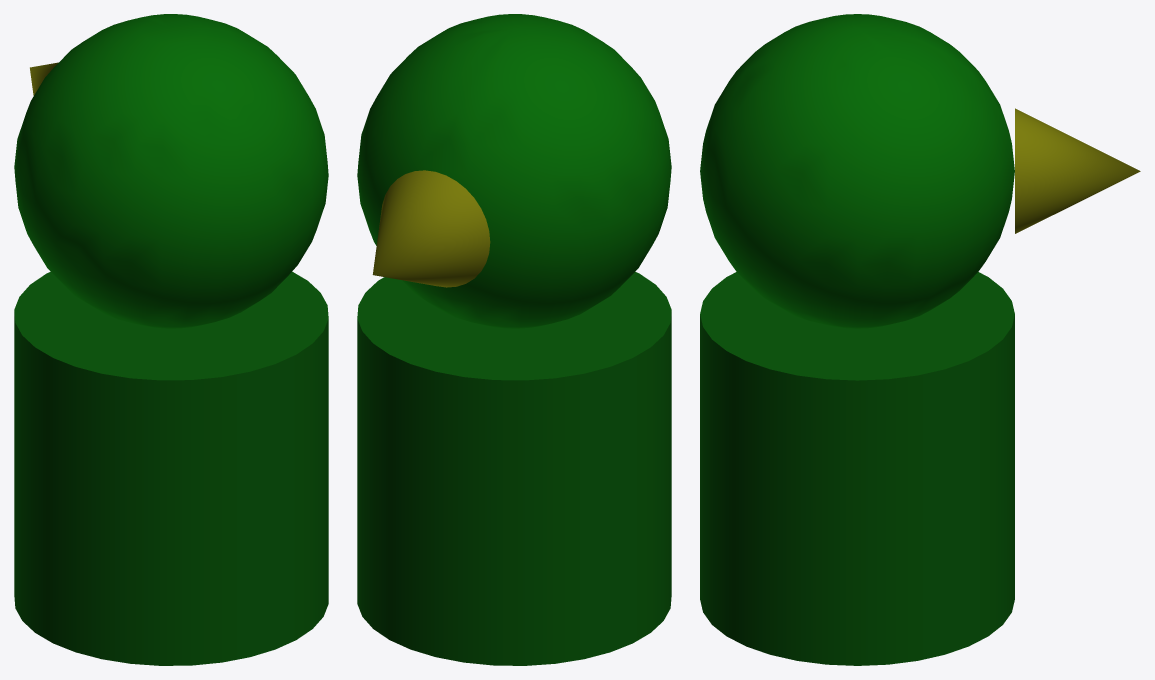
Rendered from player.obj.
3 renders of one model, left to right at view 1: azimuth 30°, elevation 25°; view 2: azimuth 150°, elevation 25°; view 3: azimuth 270°, elevation 25°, orthographic.
Parts seen in each view (by area): view 1: Cylinder, Sphere; view 2: Cylinder, Sphere, Cone; view 3: Cylinder, Sphere, Cone.
Boxes of the visible parts, <box> form: Cylinder: <box>14,271,328,665</box>; Sphere: <box>14,14,328,328</box>; Cylinder: <box>357,272,671,665</box>; Sphere: <box>357,14,671,328</box>; Cone: <box>372,170,490,287</box>; Cylinder: <box>700,272,1014,665</box>; Sphere: <box>700,14,1014,328</box>; Cone: <box>1015,108,1140,233</box>.
Bounding box in the file's own units: 1 × 2 × 1.4.
